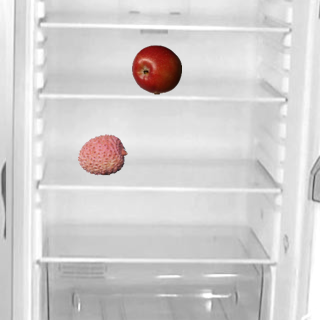Apple Braeburn: (131, 44, 181, 94)
Lychee: (77, 129, 127, 179)
